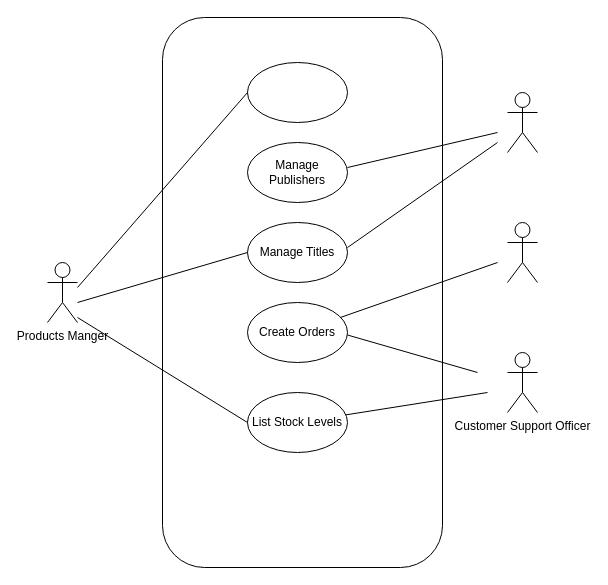
Some shapes in this 608 by 585 pixel diagram are drawn without their labels. The box of each missing label's shape, as (x1, y1, x2, y2) in pixels:
Add new Titles: (246, 62, 348, 122)
Chief Editor: (506, 92, 538, 152)
Online Customer: (506, 222, 538, 282)
